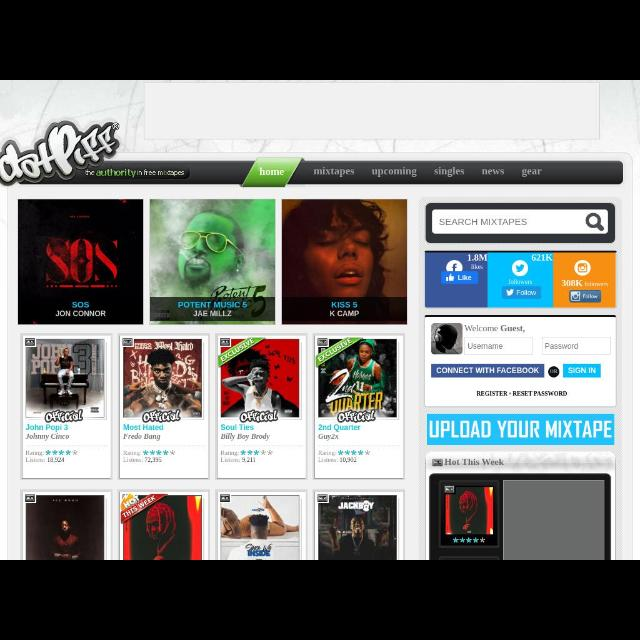icon: (586, 214, 604, 230), (432, 458, 442, 467), (52, 450, 58, 456), (150, 450, 156, 456), (240, 450, 246, 456), (260, 449, 266, 455), (66, 448, 70, 456), (60, 450, 64, 456), (72, 450, 78, 454), (144, 450, 148, 456), (156, 450, 160, 456), (163, 449, 167, 455), (248, 450, 252, 456), (254, 450, 258, 456), (352, 450, 356, 456), (358, 450, 362, 456), (364, 450, 370, 454), (46, 450, 50, 454), (170, 450, 174, 454), (268, 450, 272, 454), (338, 450, 342, 454), (345, 450, 349, 454)
iframe: (144, 83, 600, 139)
image: (18, 198, 144, 324), (282, 198, 406, 324), (150, 200, 274, 324), (425, 252, 615, 306), (0, 120, 120, 188), (124, 340, 204, 420), (220, 340, 300, 420), (320, 339, 398, 419), (26, 340, 104, 418), (427, 415, 613, 445), (318, 495, 397, 559), (26, 496, 104, 560), (123, 496, 201, 560), (221, 495, 299, 559), (442, 484, 496, 544), (432, 324, 462, 354)
input: (432, 210, 610, 233), (542, 338, 610, 354), (466, 338, 534, 354)
multitab: (2, 160, 622, 182)
text: (439, 218, 527, 228), (437, 367, 539, 375), (464, 324, 524, 334), (372, 166, 418, 178), (446, 458, 504, 467), (220, 432, 272, 442), (513, 390, 567, 398), (313, 167, 355, 177), (122, 432, 162, 442), (317, 423, 361, 432), (26, 424, 68, 432), (26, 434, 70, 441), (433, 167, 462, 177), (468, 342, 504, 350), (124, 424, 164, 431), (566, 366, 596, 374), (545, 344, 579, 351), (481, 167, 503, 177), (520, 168, 542, 178), (316, 448, 338, 458), (259, 168, 283, 176), (476, 390, 508, 396), (221, 425, 253, 431), (124, 456, 144, 464), (220, 456, 240, 464), (318, 433, 338, 441), (25, 456, 43, 464), (46, 456, 64, 464), (319, 456, 337, 464), (24, 449, 44, 456), (122, 449, 140, 456), (144, 458, 162, 464), (221, 450, 239, 456), (339, 457, 356, 463), (241, 457, 255, 463)
textbutton: (432, 364, 544, 376), (563, 364, 601, 378)
